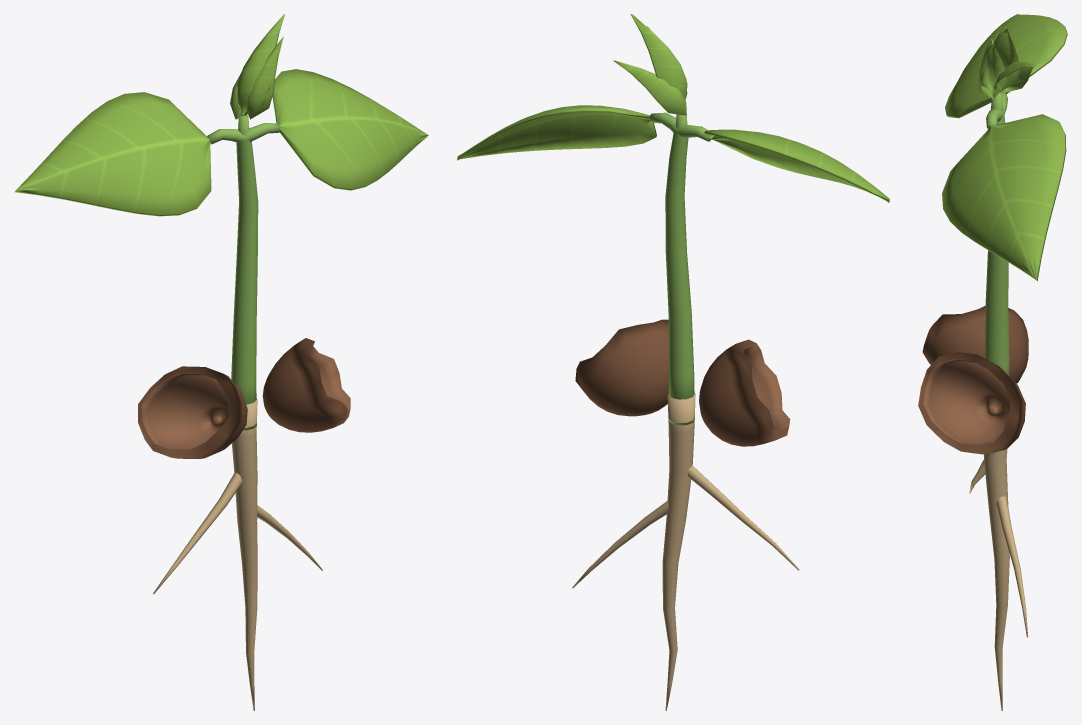
Rendered from Tree_Seedling_Simple_v01.fbx.
3 views of the same model, side by side, from view 1: azimuth 30°, elevation 25°; view 2: azimuth 150°, elevation 25°; view 3: azimuth 270°, elevation 25° (orthographic).
Parts seen in each view (by area): view 1: Foliage, SeedShell, Trunk_Branches, Roots; view 2: SeedShell, Foliage, Roots, Trunk_Branches; view 3: Foliage, SeedShell, Roots, Trunk_Branches.
Part boxes in pixels (x1,y1,x2,y2): Foliage: [14, 14, 428, 216]; SeedShell: [138, 338, 350, 458]; Trunk_Branches: [207, 114, 280, 430]; Roots: [153, 398, 322, 710]; SeedShell: [575, 319, 790, 446]; Foliage: [457, 14, 889, 202]; Roots: [572, 393, 799, 710]; Trunk_Branches: [649, 112, 710, 425]; Foliage: [942, 14, 1067, 280]; SeedShell: [918, 305, 1028, 454]; Roots: [969, 449, 1027, 710]; Trunk_Branches: [985, 92, 1009, 375].
Bounding box in the file's own units: 0.2933 × 0.456 × 0.0883.
